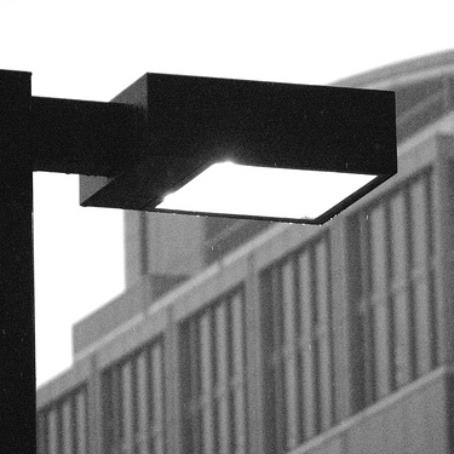light pole: (1, 70, 404, 454)
